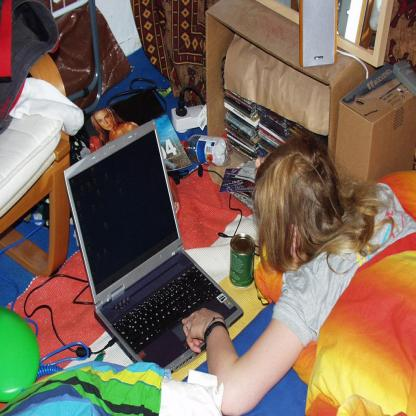board: (64, 118, 242, 375), (181, 135, 234, 166), (229, 233, 255, 287)
